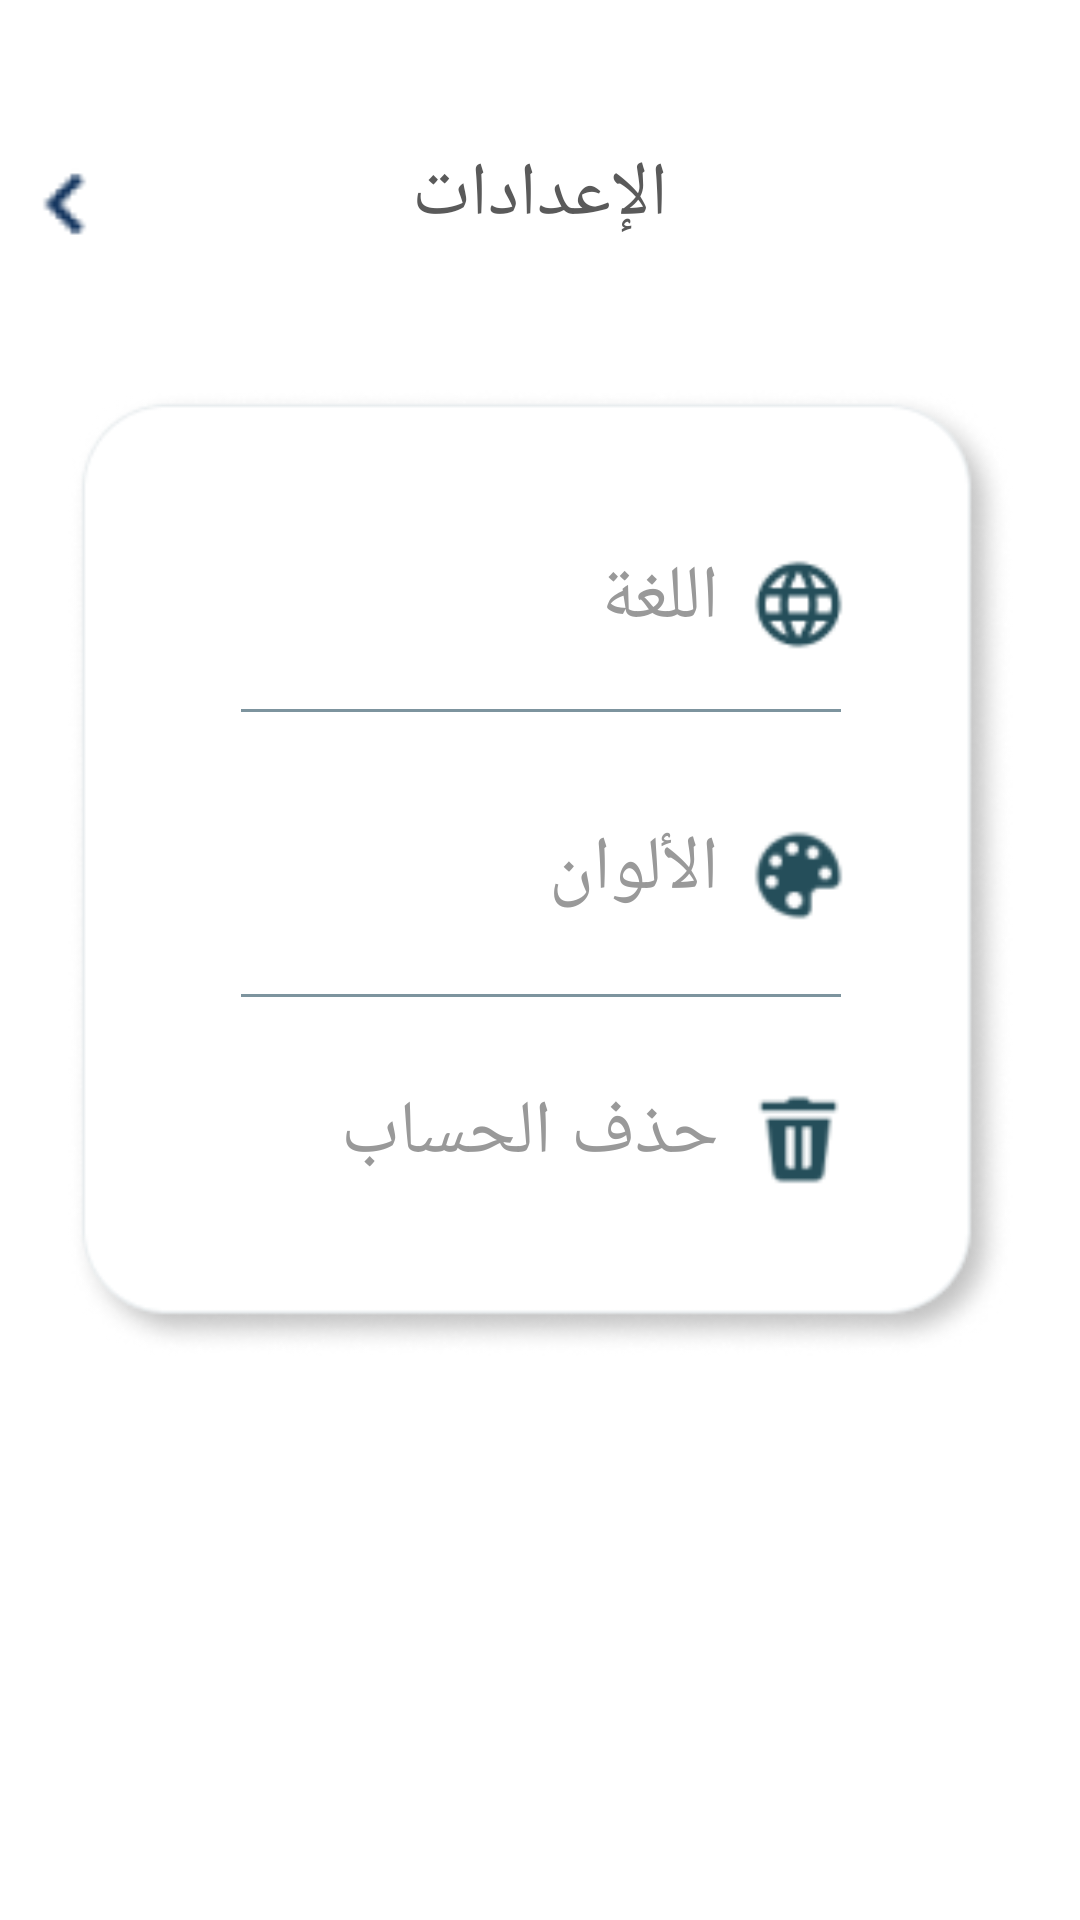

Icon click points for this 1080x1920 phone screenshot, format point (x, y):
language: point (798, 604)
paint palette: point (798, 875)
waste: point (798, 1139)
